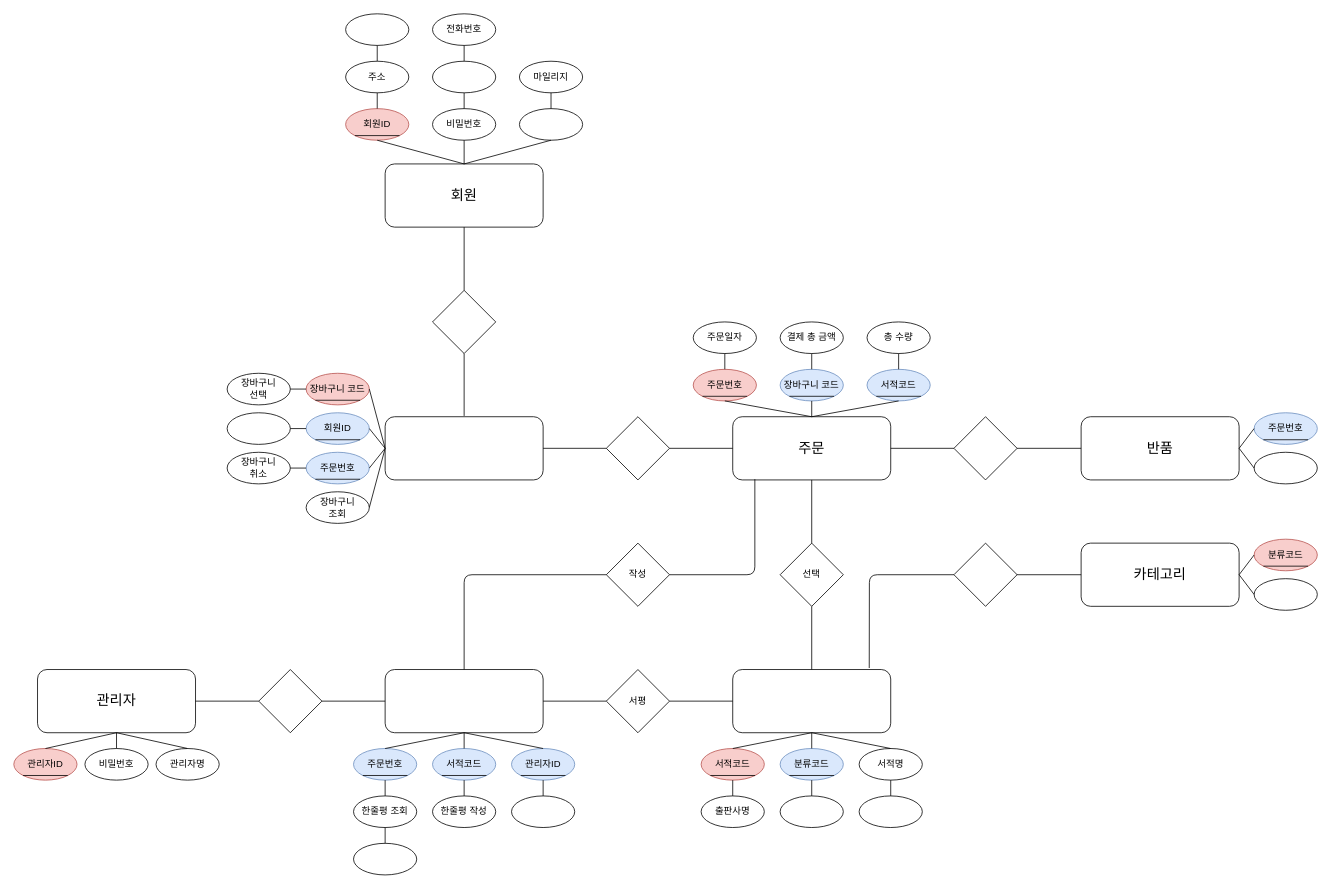
This 1331x889 diagram has some shape labels left out. Each missing label, with the centre of its shape:
개인정보변경: the point at 464,76
결제: the point at 638,448
관리: the point at 290,701
등록일자: the point at 811,811
반품일자: the point at 1285,467
보관: the point at 464,322
분류: the point at 985,574
분류명: the point at 1285,594
상세주소: the point at 377,29
서적: the point at 811,701
장바구니: the point at 463,448
장바구니 변경: the point at 258,428
판매가: the point at 890,811
한줄평: the point at 463,701
한줄평 변경: the point at 543,811
한줄평 삭제: the point at 385,859
환불: the point at 985,448
회원명: the point at 551,124
